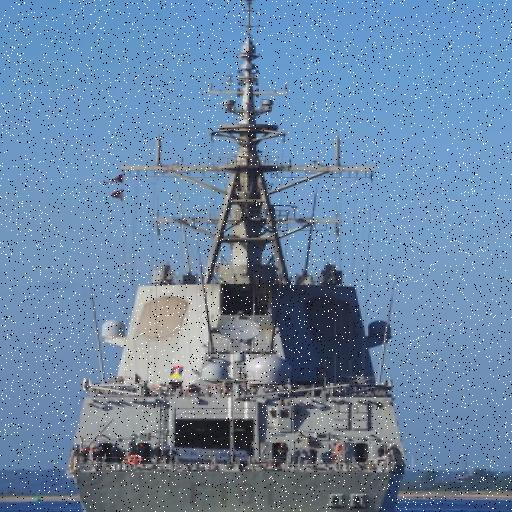Fragata: (51, 1, 413, 512)
